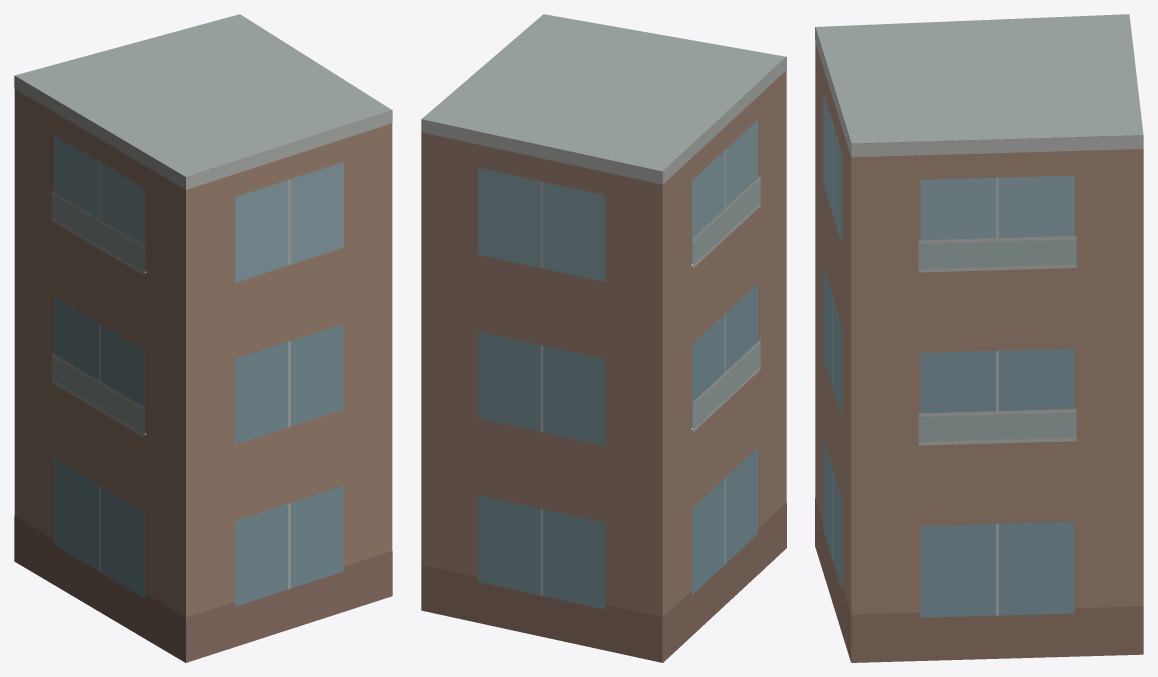
The model's file is survey-upis-32920566.glb.
3 views of the same model, side by side, from view 1: azimuth 30°, elevation 25°; view 2: azimuth 150°, elevation 25°; view 3: azimuth 270°, elevation 25° (orthographic). The views are drawn at different scales.
Visible parts, largest first — view 1: survey-upis-32920566.tmp; view 2: survey-upis-32920566.tmp; view 3: survey-upis-32920566.tmp.
Boxes of the visible parts, x1,y1,x2,y2 form: survey-upis-32920566.tmp: (14,14,392,662); survey-upis-32920566.tmp: (421,14,786,662); survey-upis-32920566.tmp: (815,14,1143,662).
Size of the model in its own units: 4.9 by 9.15 by 5.25.
